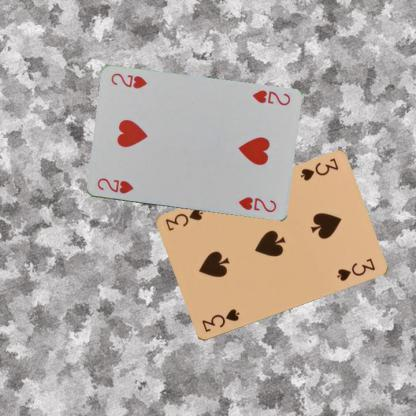2h: (94, 176, 135, 196), (249, 88, 292, 107)
3s: (199, 306, 241, 334), (297, 156, 340, 182)
